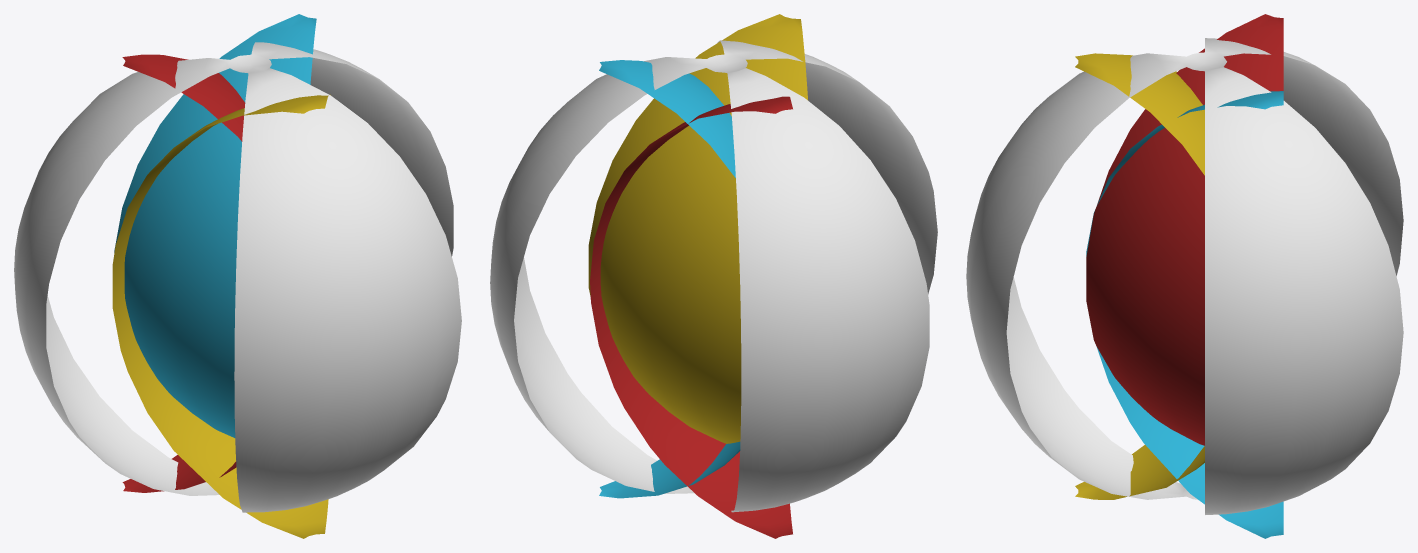
File: beach_ball-Optimized.glb
The picture shows the model from 3 angles, left to right: view 1: azimuth 30°, elevation 25°; view 2: azimuth 150°, elevation 25°; view 3: azimuth 270°, elevation 25°; orthographic projection.
Parts seen in each view (by area): view 1: Sphere; view 2: Sphere; view 3: Sphere.
Part boxes in pixels (<box>): Sphere: <box>14,14,461,538</box>; Sphere: <box>490,14,937,538</box>; Sphere: <box>966,14,1403,538</box>.
Bounding box in the file's own units: 65218 × 65218 × 60012.
